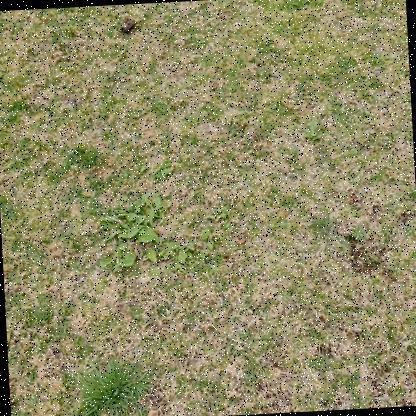Weeds: (96, 186, 221, 281), (200, 207, 236, 251), (149, 159, 173, 183), (302, 118, 323, 141), (349, 224, 368, 243)
